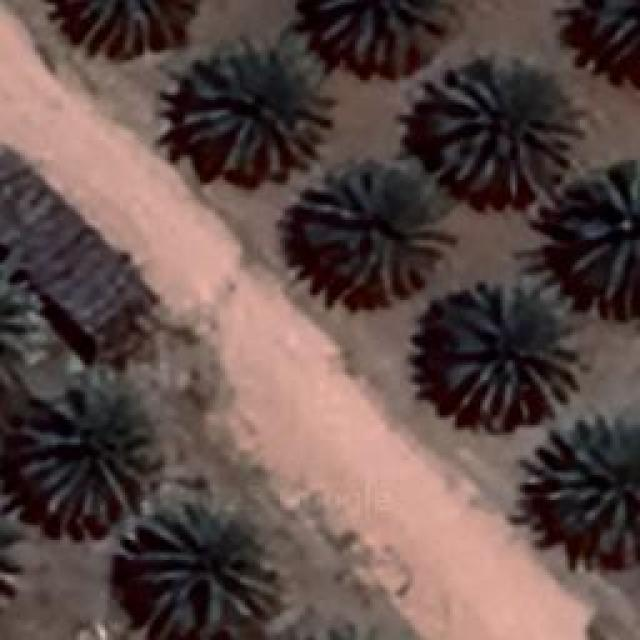PalmTree: (295, 160, 455, 302), (418, 60, 580, 200), (178, 35, 332, 180), (438, 274, 582, 428), (10, 370, 148, 525), (125, 504, 273, 638), (534, 412, 638, 546), (560, 160, 638, 302), (312, 0, 460, 70), (67, 0, 195, 55), (562, 0, 639, 82), (0, 250, 40, 380), (0, 484, 29, 614), (256, 614, 391, 640)
